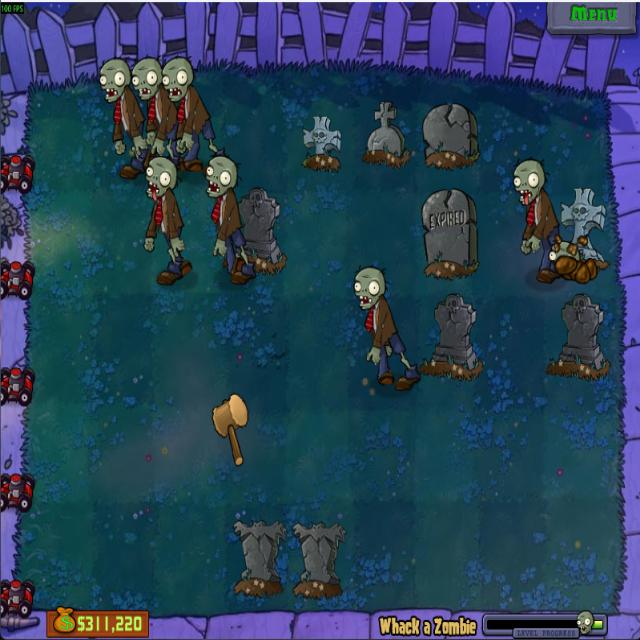grave: (416, 186, 480, 282), (417, 292, 484, 383), (549, 292, 610, 381), (229, 186, 287, 275), (291, 516, 348, 601), (231, 514, 286, 599), (418, 101, 480, 172), (558, 186, 609, 270), (361, 99, 409, 168), (298, 110, 342, 174)
zombie: (509, 156, 548, 206), (350, 262, 388, 312), (142, 155, 178, 202), (98, 56, 132, 103), (161, 56, 195, 101), (204, 155, 239, 198), (129, 56, 163, 100)
